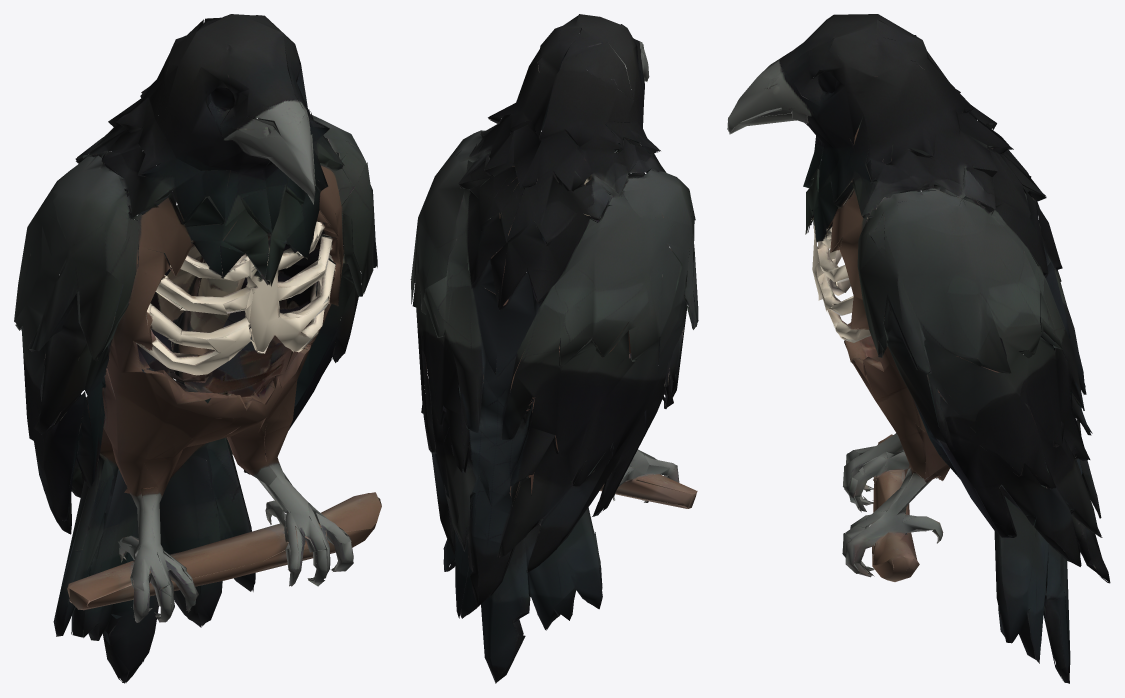
Rendered from mesh_hollow_crow_a.glb.
The picture shows the model from 3 angles, left to right: view 1: azimuth 30°, elevation 25°; view 2: azimuth 150°, elevation 25°; view 3: azimuth 270°, elevation 25°; orthographic projection. The views are drawn at different scales.
Parts seen in each view (by area): view 1: mesh_hollow_crow_a__Mesh_0; view 2: mesh_hollow_crow_a__Mesh_0; view 3: mesh_hollow_crow_a__Mesh_0.
Boxes of the visible parts, box(x1,y1,x2,y2) form: mesh_hollow_crow_a__Mesh_0: box(14, 14, 381, 683); mesh_hollow_crow_a__Mesh_0: box(410, 14, 698, 683); mesh_hollow_crow_a__Mesh_0: box(727, 14, 1110, 683).
Bounding box in the file's own units: 1.83 × 3.8 × 1.99.
Materials: 1 (1 with a texture image).
